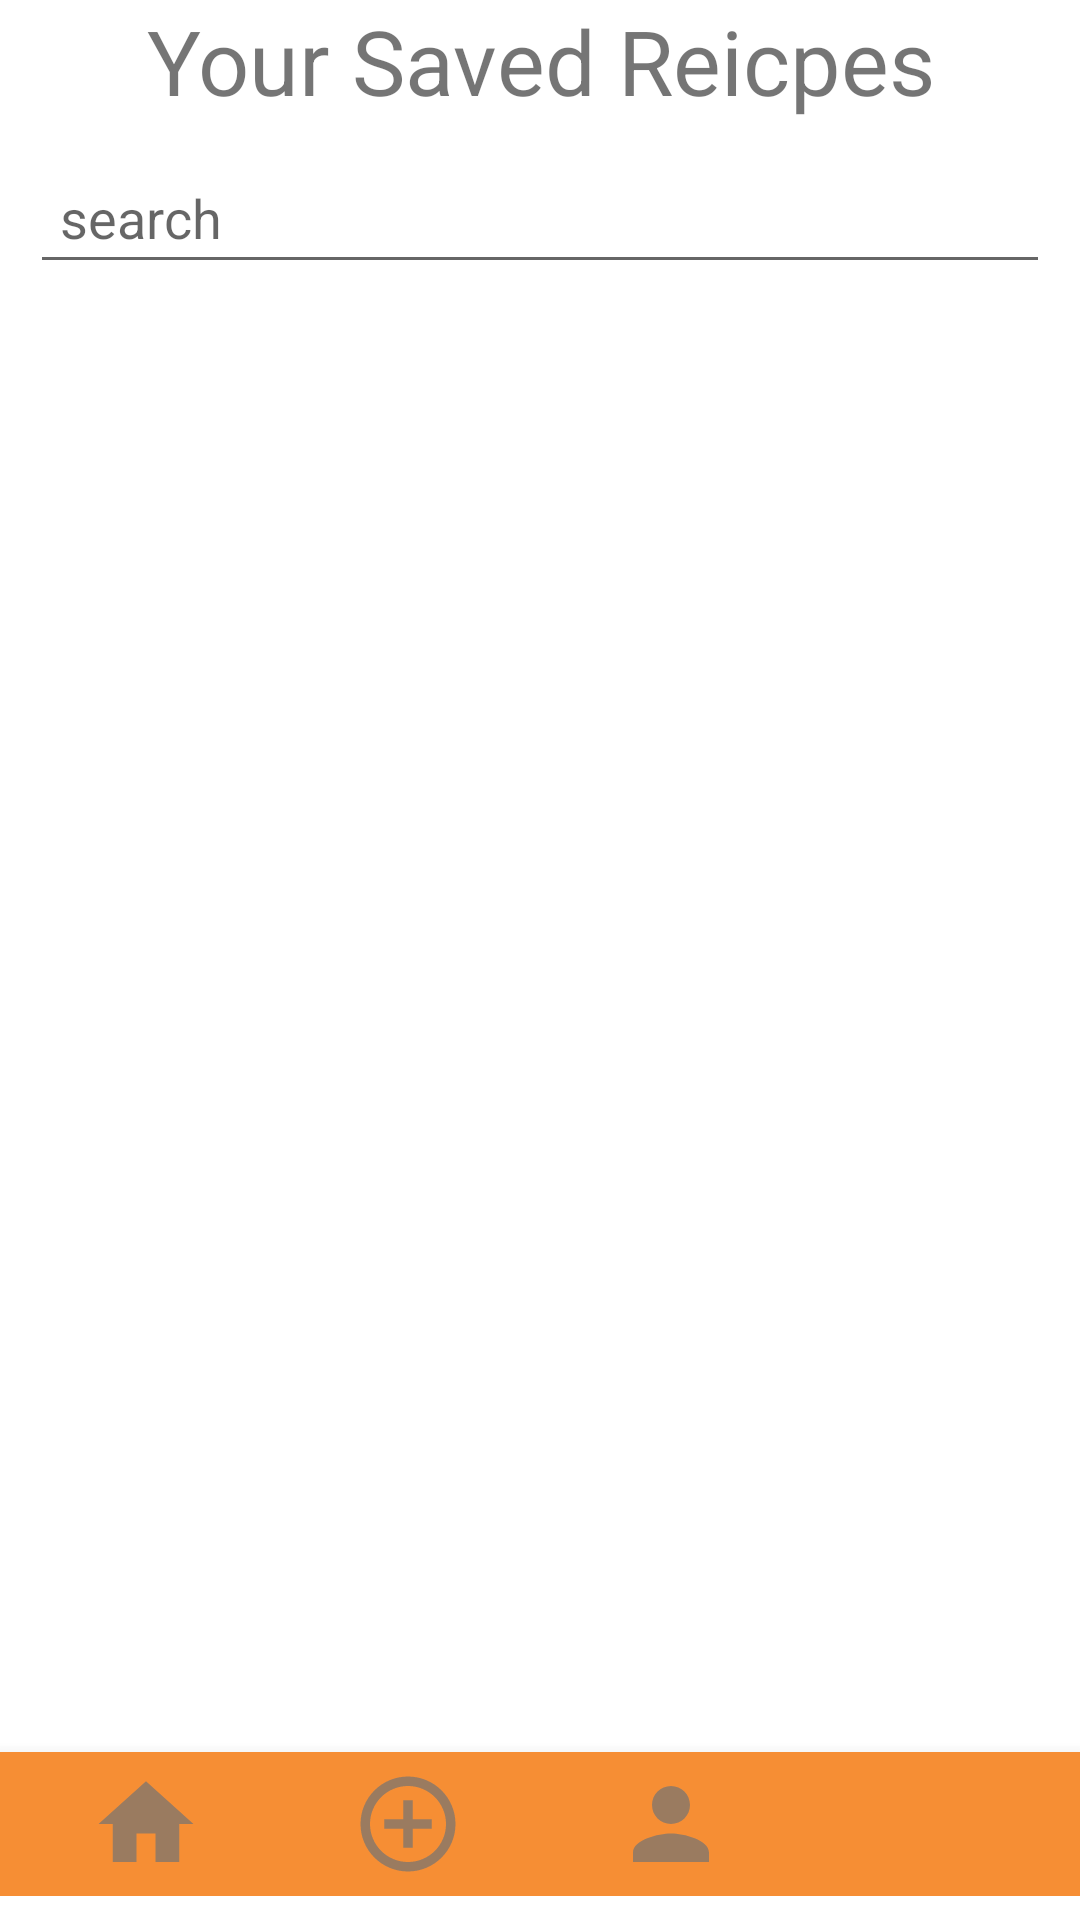

Locate icon controls on the screen. Image size 1080w x 1920h, boxes as (x1, y1, x2, y2).
add: (360, 1776, 456, 1872)
home: (99, 1781, 193, 1862)
profile: (633, 1786, 709, 1862)
